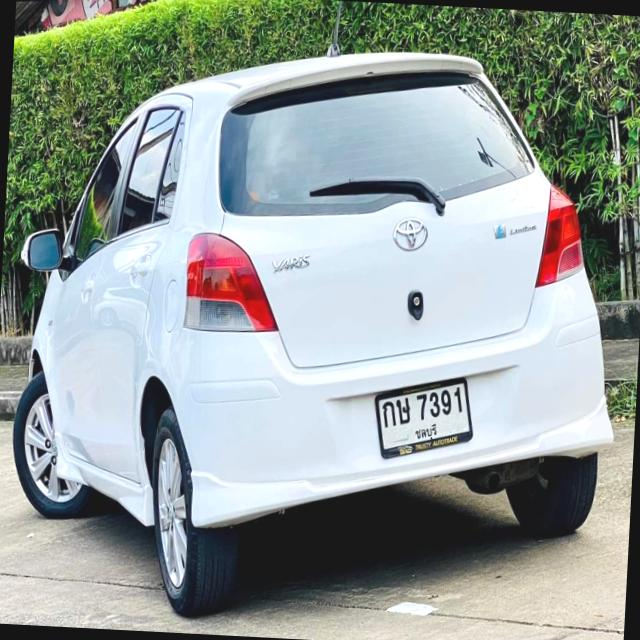license_plate: (370, 370, 480, 467)
